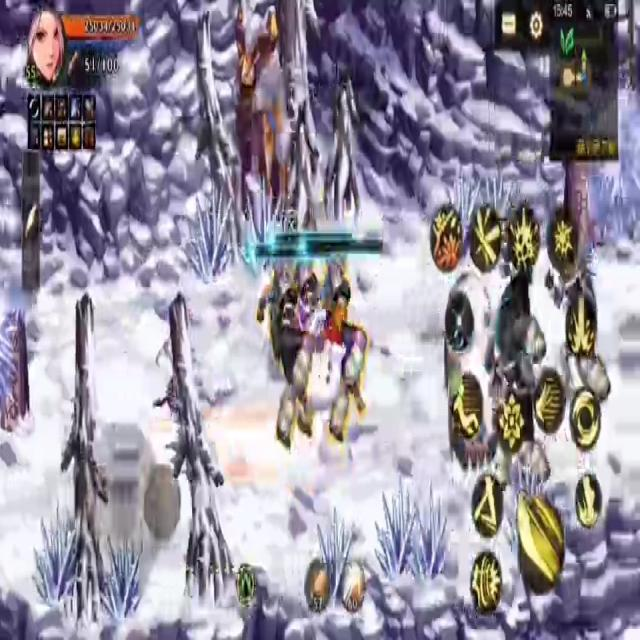player: (298, 286, 350, 449)
